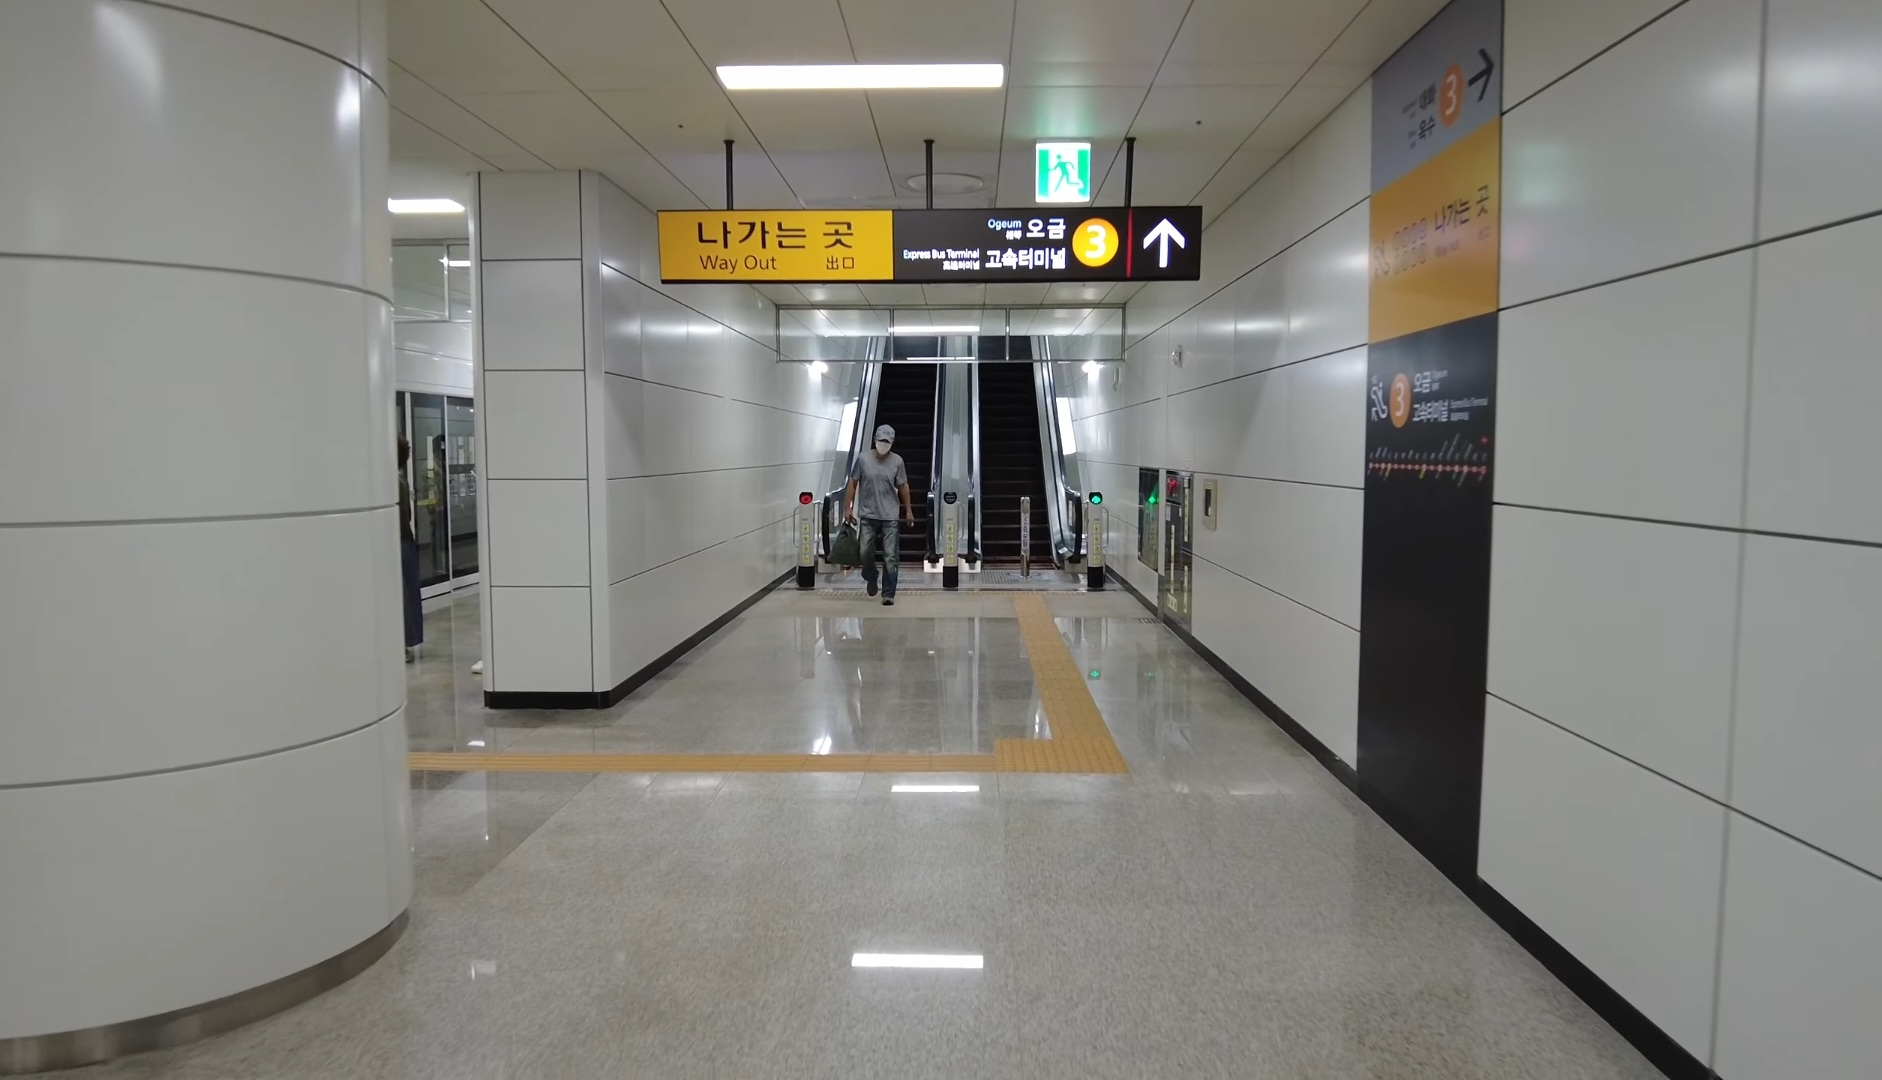signBoard: (651, 180, 1214, 292)
